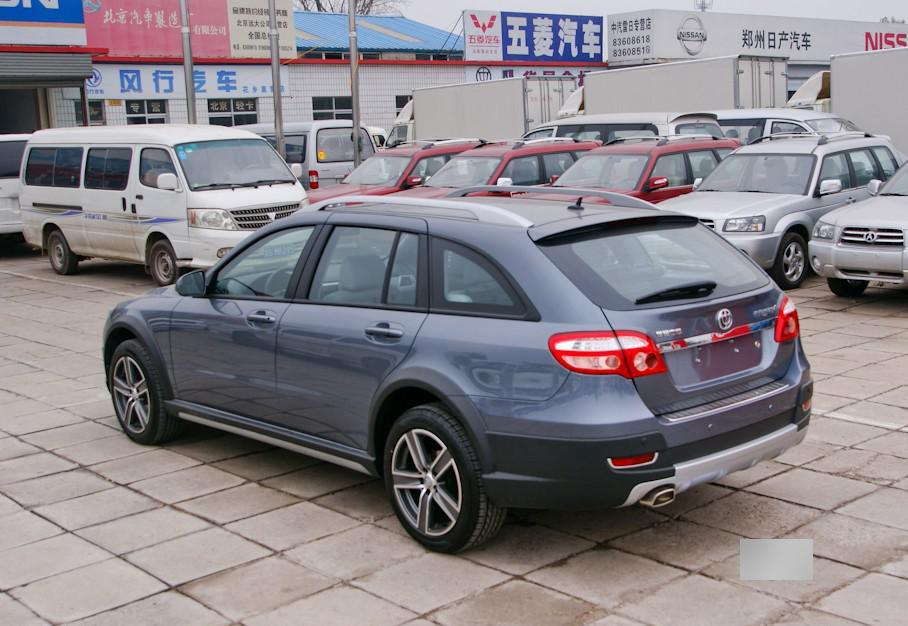Wagon: (102, 188, 814, 554)
